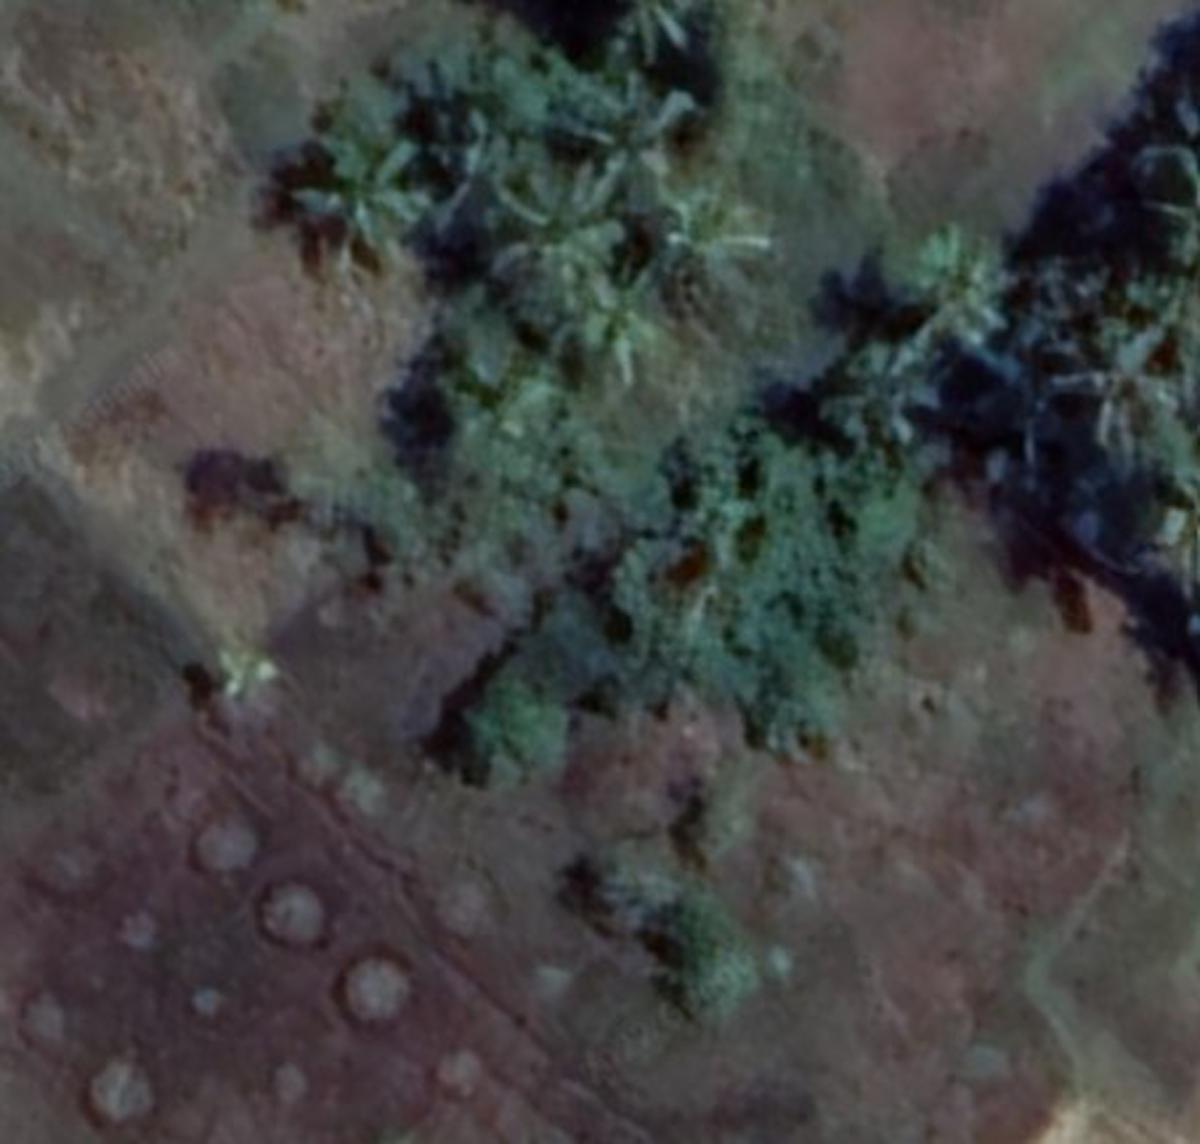coconut: (289, 130, 448, 270), (485, 161, 629, 289), (913, 220, 1024, 350), (652, 185, 783, 297)
